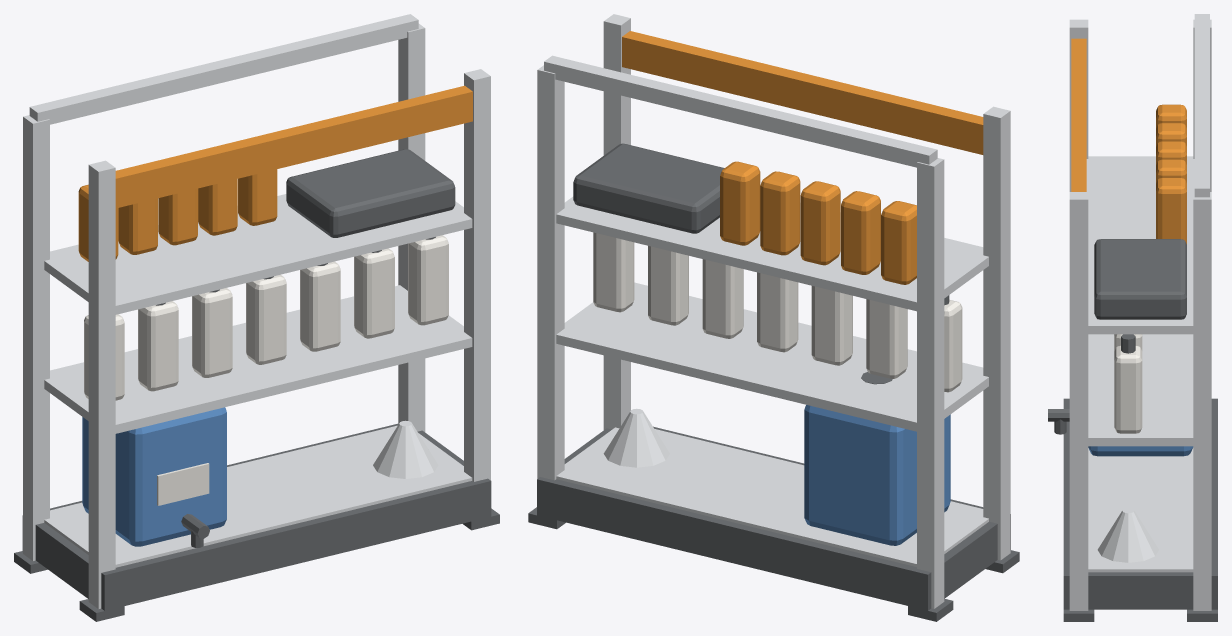
File: tool-hire-depot-and-plant-yard-tool-hire-depot-and-pla-70537799__35338.glb
3 views of the same model, side by side, from view 1: azimuth 30°, elevation 25°; view 2: azimuth 150°, elevation 25°; view 3: azimuth 270°, elevation 25° (orthographic). The views are drawn at different scales.
Parts seen in each view (by area): view 1: tool-hire-depot-and-plant-yard-oil-and-grease-shelf; view 2: tool-hire-depot-and-plant-yard-oil-and-grease-shelf; view 3: tool-hire-depot-and-plant-yard-oil-and-grease-shelf.
Part boxes in pixels (x1,y1,x2,y2): tool-hire-depot-and-plant-yard-oil-and-grease-shelf: [14, 14, 499, 621]; tool-hire-depot-and-plant-yard-oil-and-grease-shelf: [528, 14, 1019, 621]; tool-hire-depot-and-plant-yard-oil-and-grease-shelf: [1048, 14, 1217, 621].
Size of the model in its own units: 1.42 by 1.53 by 0.5501.
